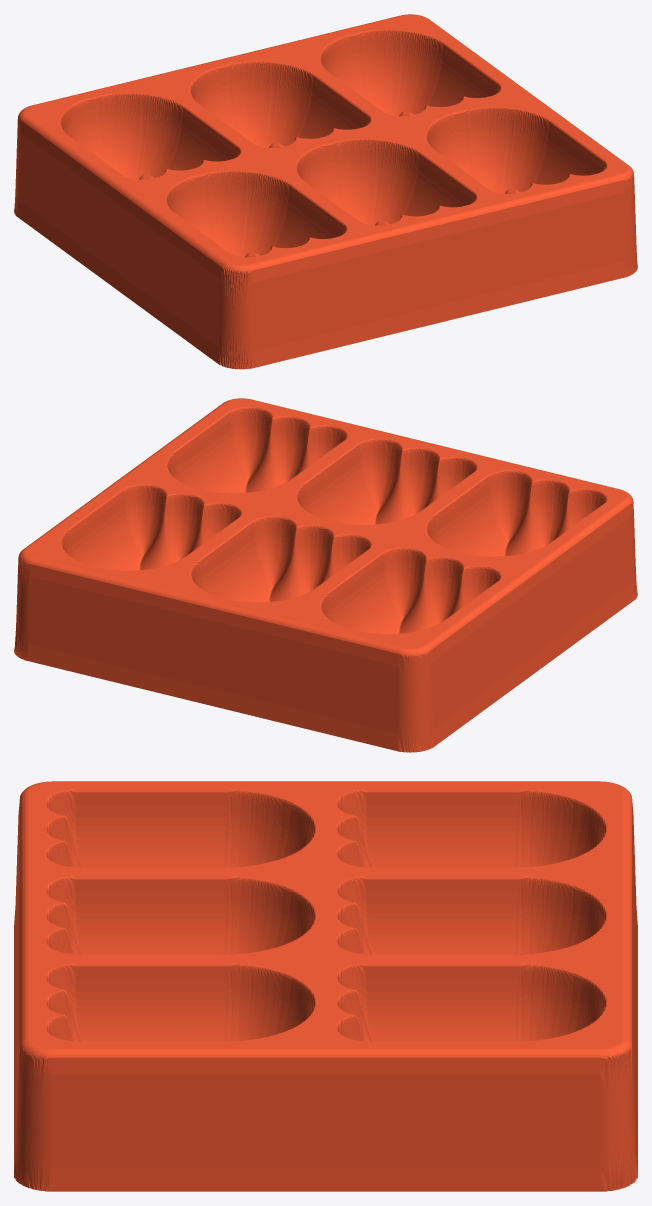
The model's file is mold.glb.
3 views of the same model, one above another, from view 1: azimuth 30°, elevation 25°; view 2: azimuth 150°, elevation 25°; view 3: azimuth 270°, elevation 25° (orthographic). The views are drawn at different scales.
Visible parts, largest first — view 1: geometry_0; view 2: geometry_0; view 3: geometry_0.
Part boxes in pixels (bbox=[...]): geometry_0: bbox=[14, 14, 637, 369]; geometry_0: bbox=[14, 398, 637, 752]; geometry_0: bbox=[14, 781, 637, 1191].
Size of the model in its own units: 0.1579 by 0.036 by 0.1492.
